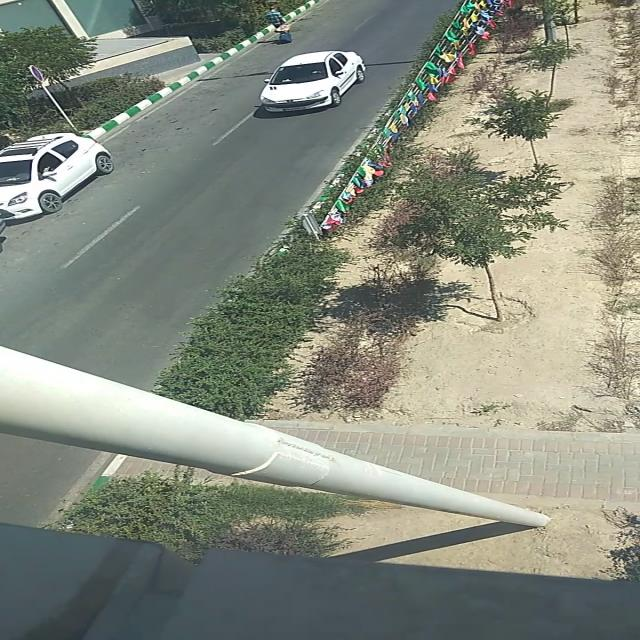car: (0, 133, 113, 221), (259, 48, 366, 118)
